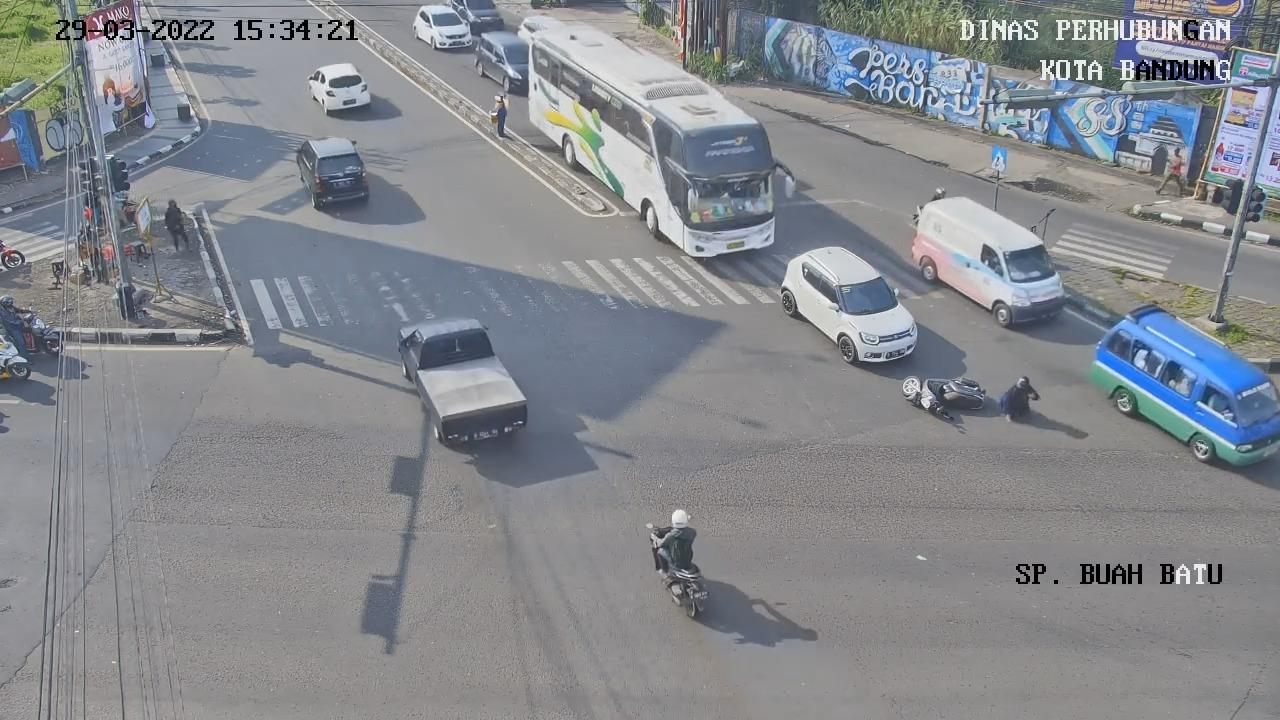accident: (999, 374, 1041, 423)
